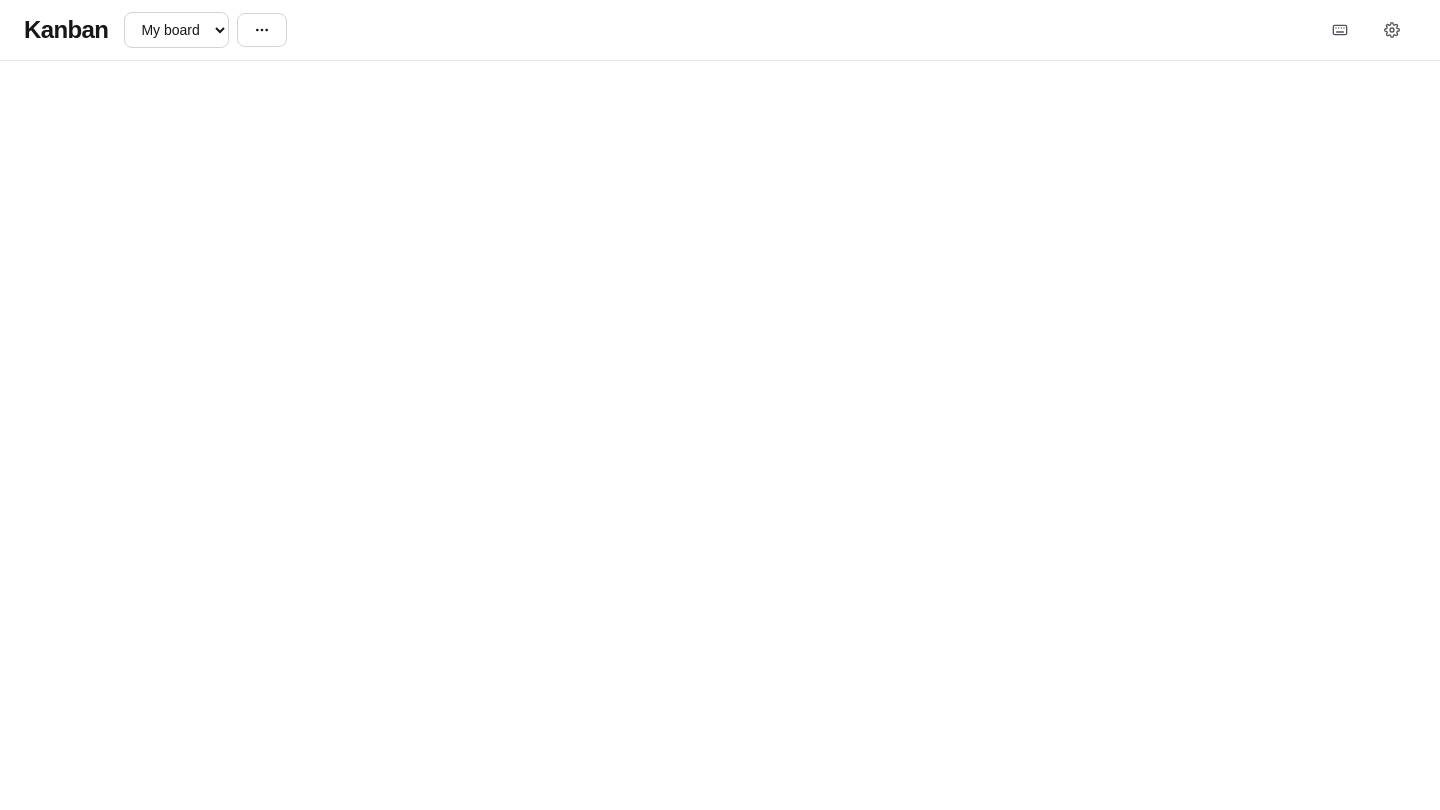
Test case: TopBar › opens the shortcuts dialog from the icon and with ?
Click the button named "Keyboard shortcuts": (1340, 30) [1316,14,1364,46]
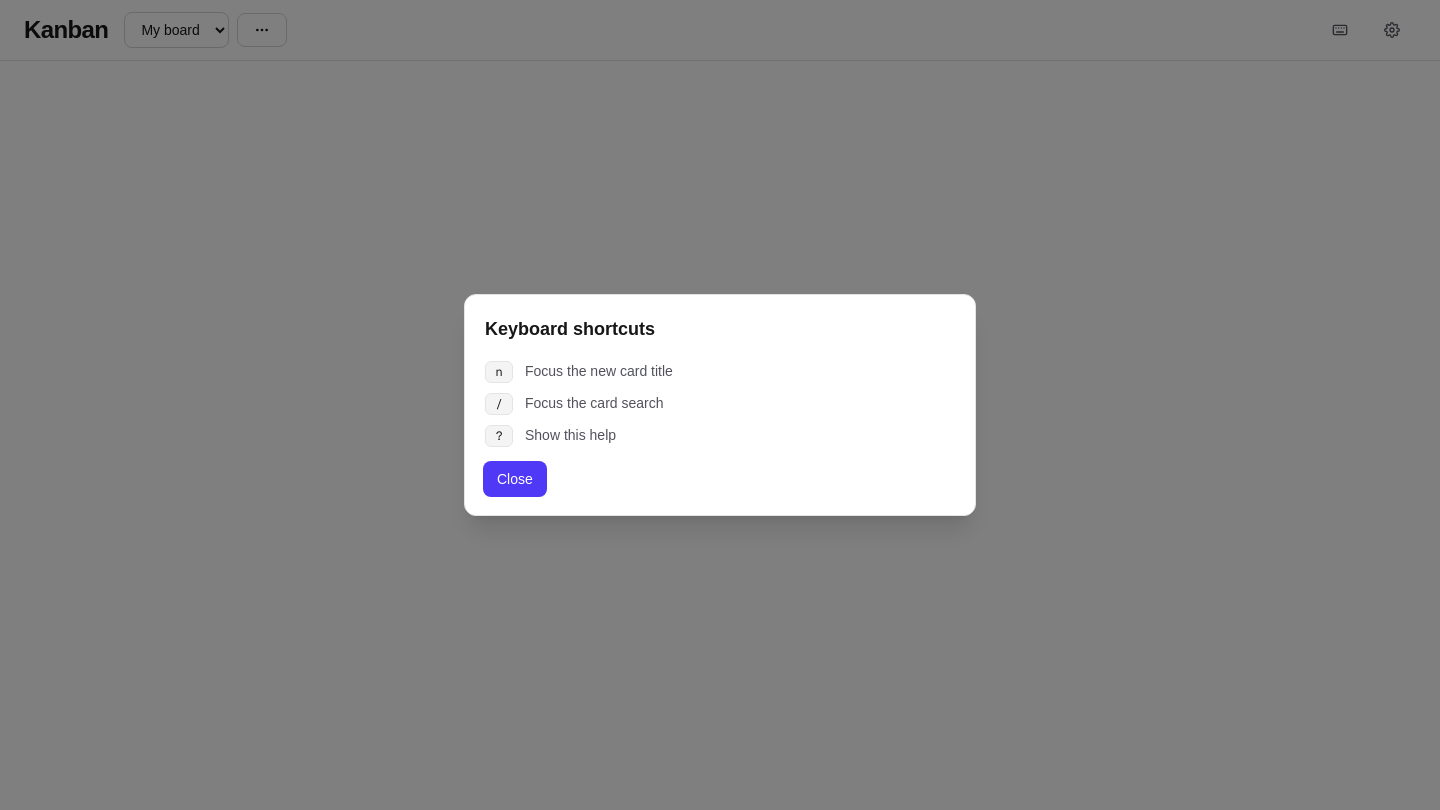
Click the button "Close": (515, 479) [485,463,545,495]
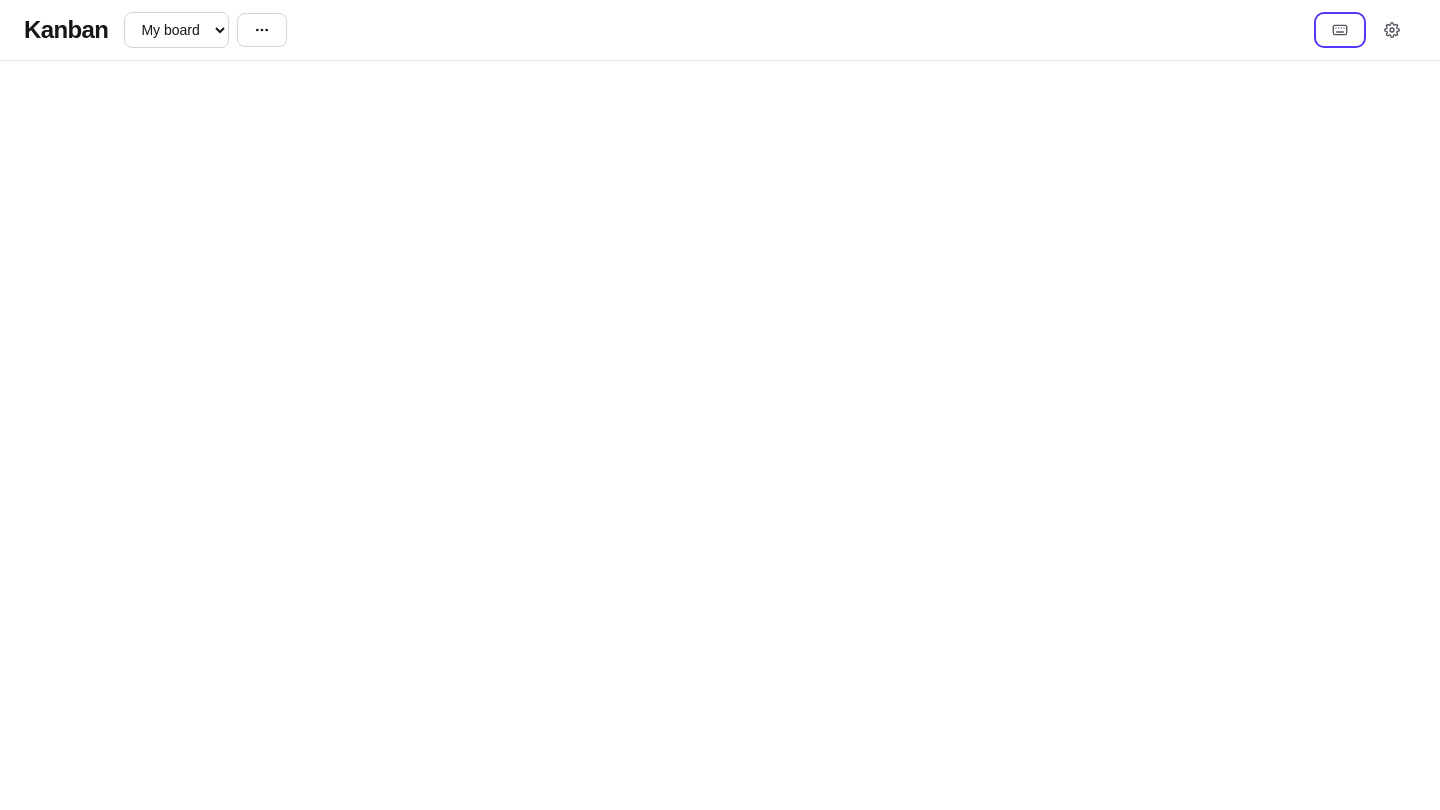
Type keys "?"
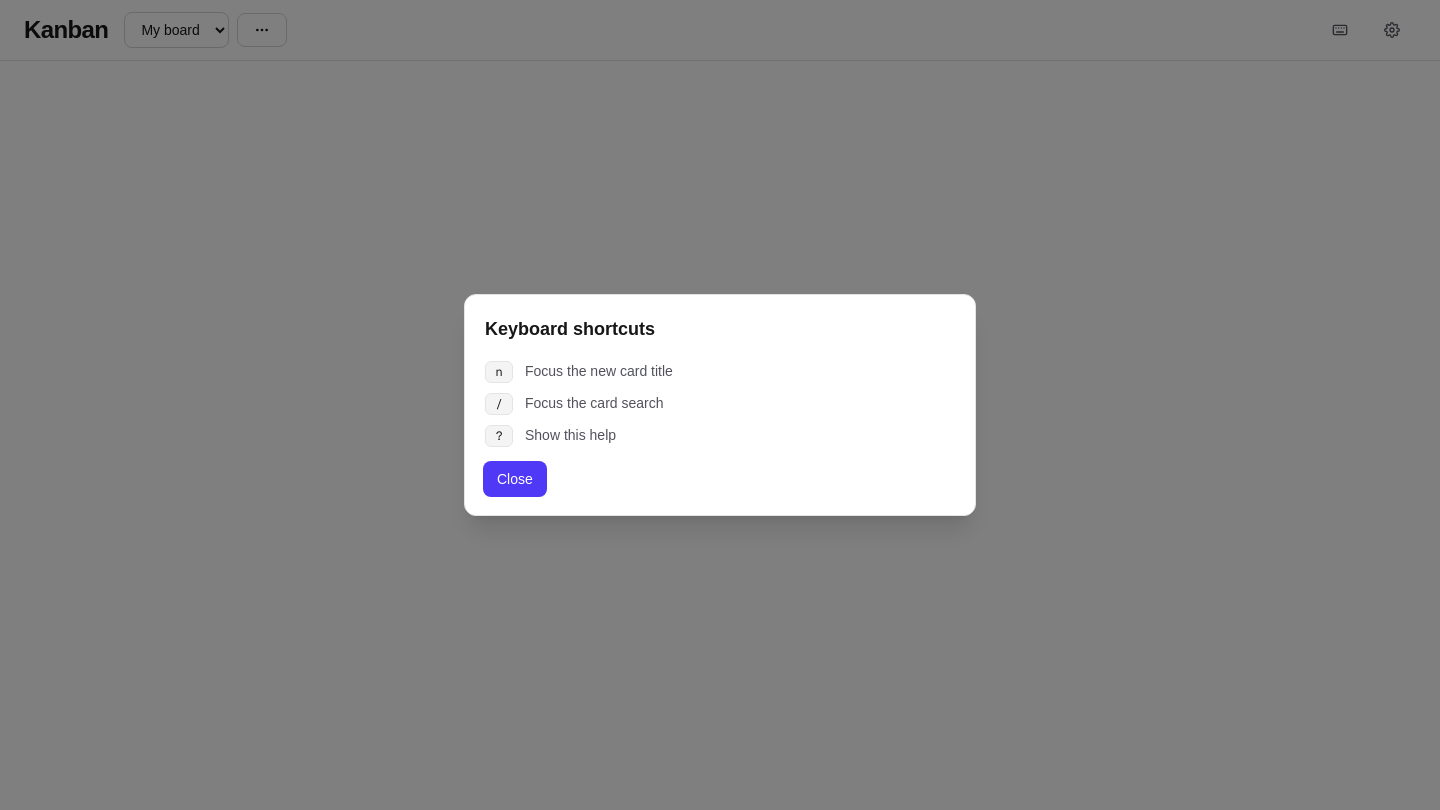
Result: the dialog "Keyboard shortcuts" is shown at [464,294,976,516]
